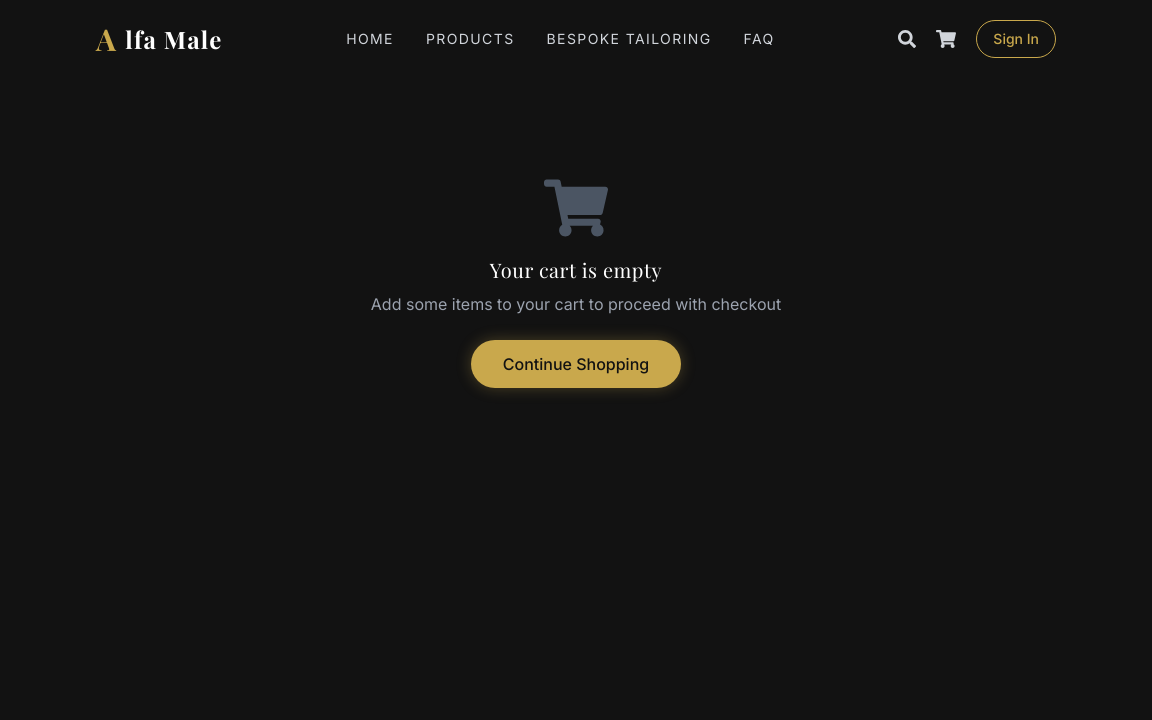
Test: customer shopping journey › gives empty-cart customers a path back to shopping
The width and height of the screenshot is (1152, 720).
Check: the heading "Your cart is empty" is shown, box [490,256,662,284]
Click the button "Continue Shopping" at (576, 364), box [471,340,681,388]
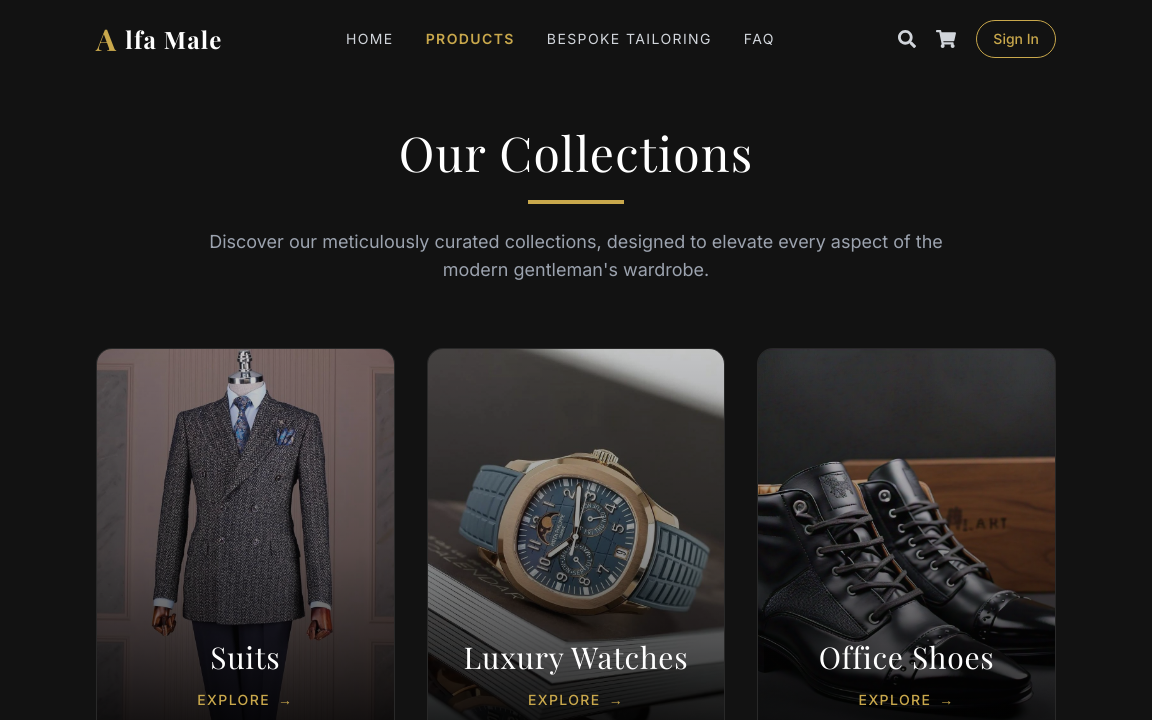
Check: the heading "Our Collections" is shown, box [399,120,753,184]
